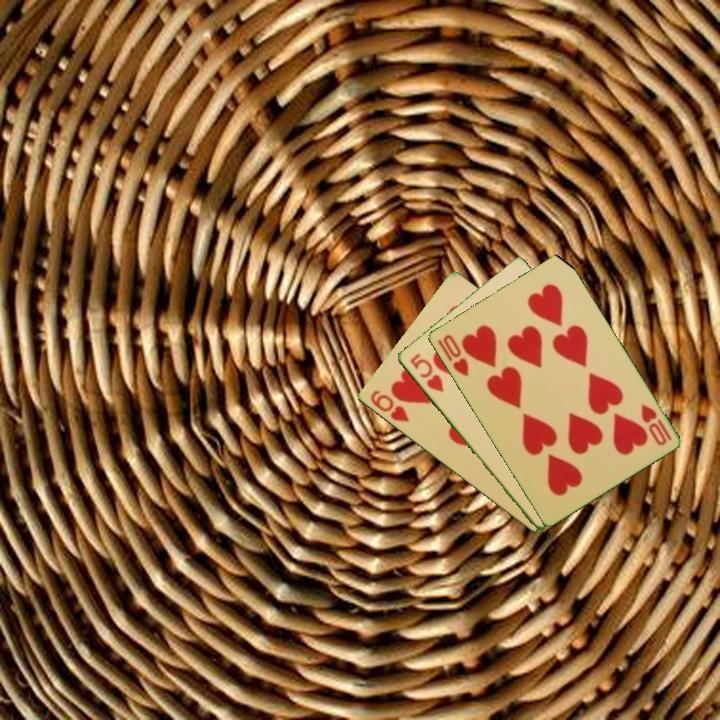10h: (433, 331, 471, 380), (637, 400, 674, 448)
5h: (406, 350, 446, 395)
6h: (366, 387, 411, 425)
